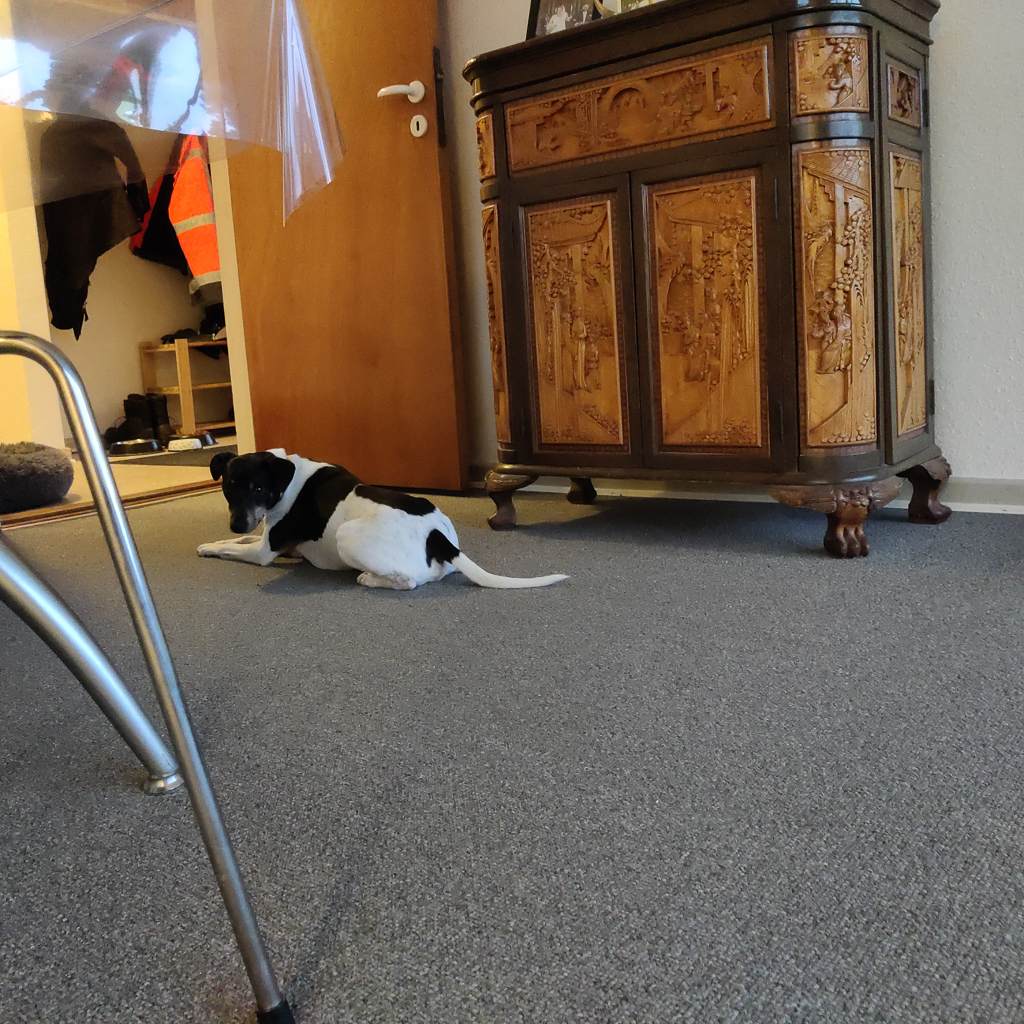Dog: (172, 423, 591, 604)
